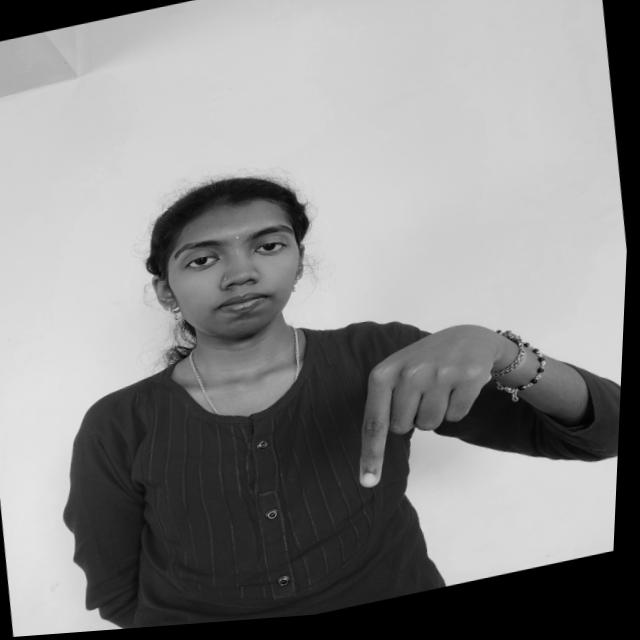Now: (337, 312, 533, 501)
